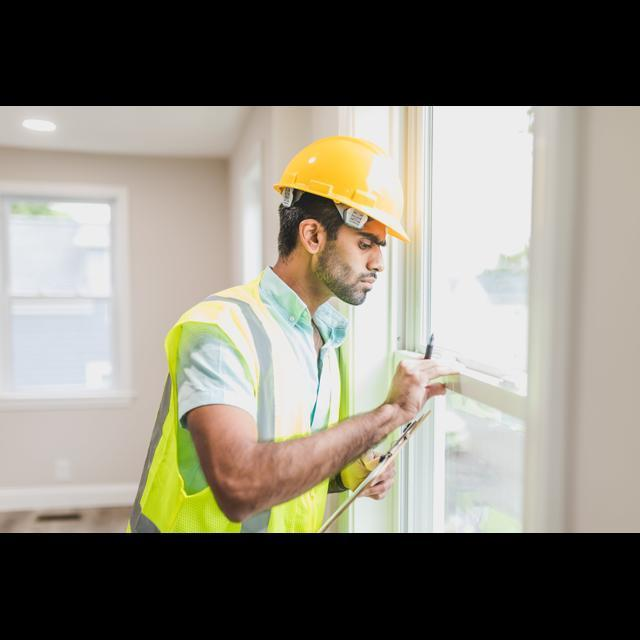Capacete: (273, 136, 409, 241)
Colete: (126, 274, 328, 532)
Pessoa: (127, 136, 454, 531)
